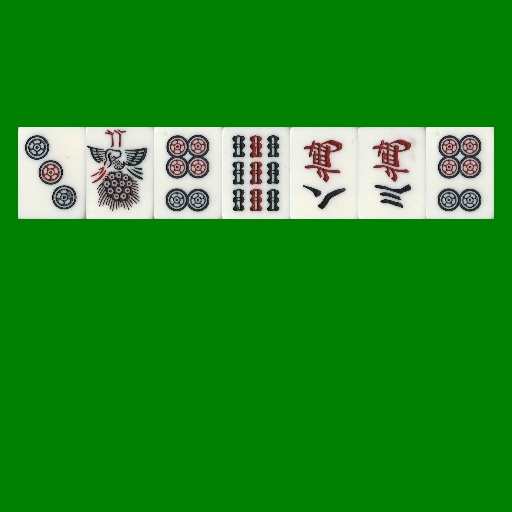1s: (86, 127, 154, 219)
3m: (358, 127, 426, 219)
3p: (18, 127, 86, 219)
6p: (154, 127, 222, 219), (426, 127, 494, 219)
8m: (290, 127, 358, 219)
9s: (222, 127, 290, 219)
